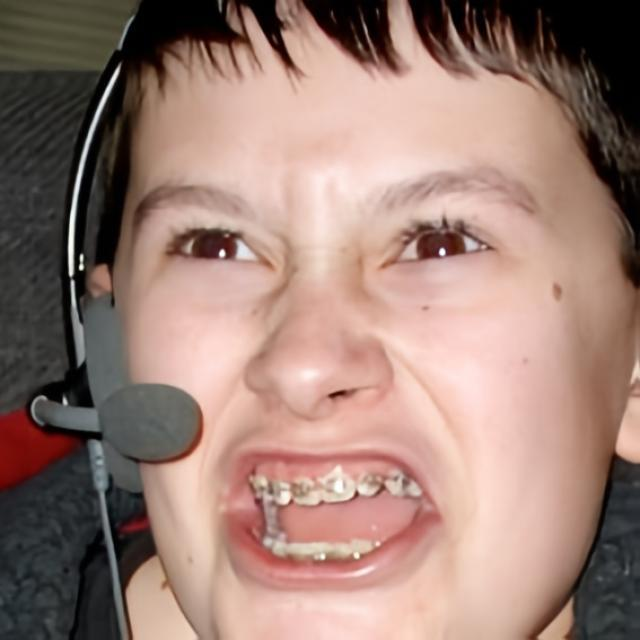disgust: (112, 0, 614, 640)
